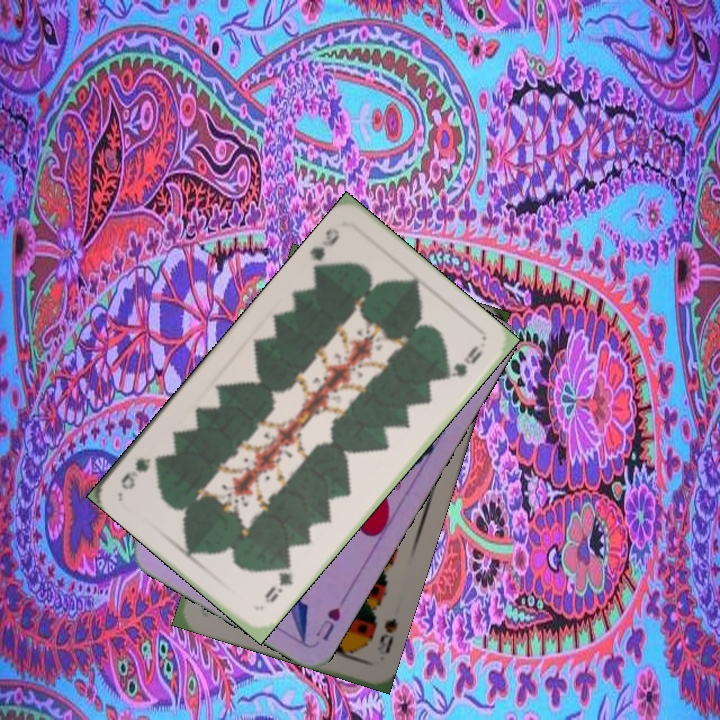G9: (305, 223, 343, 275), (260, 558, 296, 606)
HU: (311, 603, 343, 644)
S8: (373, 614, 401, 658)
